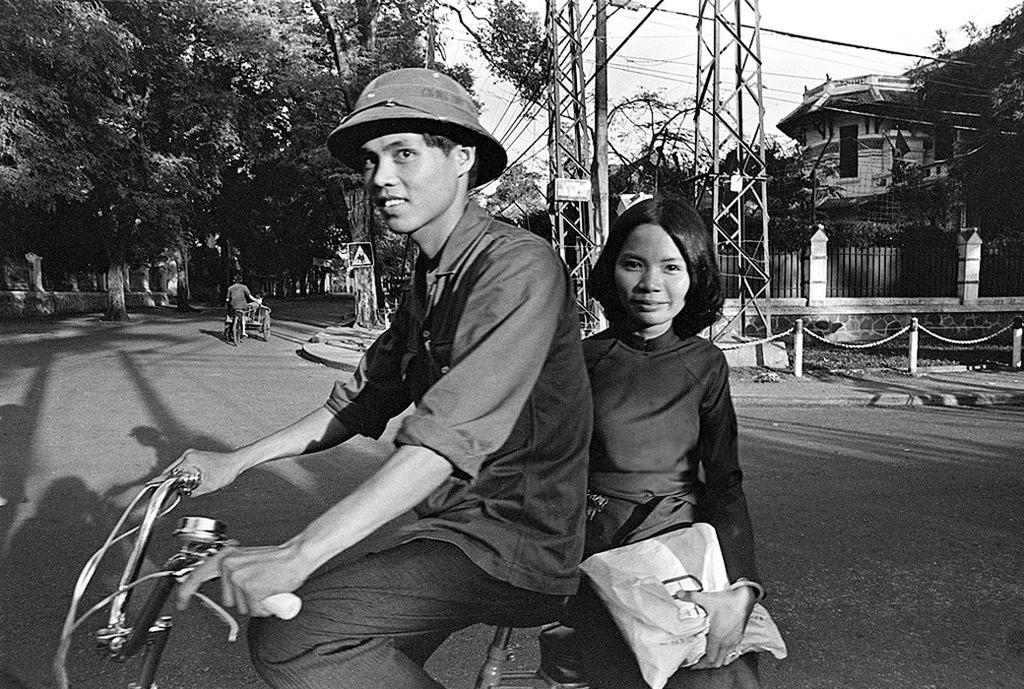Hat: (322, 63, 504, 188)
